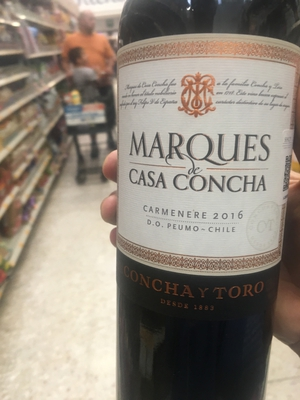marques de casa concha carmenere: (113, 21, 300, 388)
